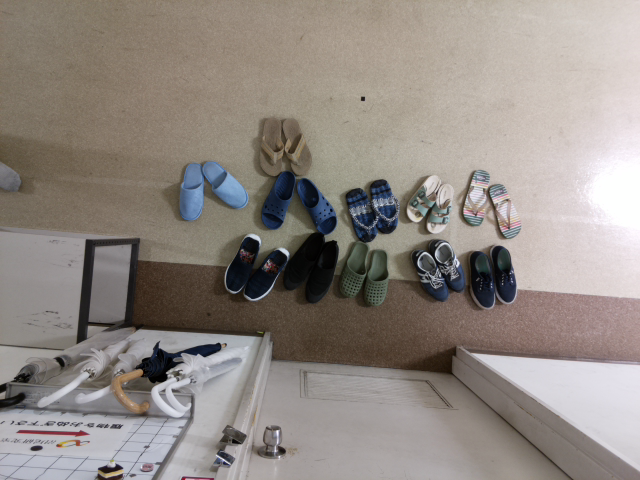Copy of Copy of Copy of Copy of Copy of Copy of Copy of Copy of Copy of Copy of: (240, 242, 293, 303), (199, 155, 252, 212), (220, 231, 266, 296), (277, 230, 324, 292), (254, 169, 299, 231), (293, 176, 337, 237), (299, 237, 339, 303), (279, 115, 315, 177), (338, 238, 373, 298), (176, 161, 208, 222), (254, 115, 286, 176), (365, 246, 396, 308)
Copy of Copy of Copy of Copy of Copy of Copy of Copy of Copy of Copy of shoe: (343, 185, 374, 247)
Copy of Copy of Copy of Copy of Copy of Copy of Copy of Copy of shoe: (368, 173, 399, 236)
Copy of Copy of Copy of Copy of Copy of Copy of Copy of shoe: (404, 168, 441, 226)
Copy of Copy of Copy of Copy of Copy of Copy of shoe: (426, 181, 455, 234)
Copy of Copy of Copy of Copy of Copy of shoe: (410, 246, 448, 304)
Copy of Copy of Copy of Copy of shoe: (430, 237, 468, 296)
Copy of Copy of Copy of shoe: (466, 245, 498, 314)
Copy of Copy of shoe: (490, 242, 521, 311)
Copy of shoe: (459, 167, 493, 231)
shoe: (486, 181, 525, 244)
